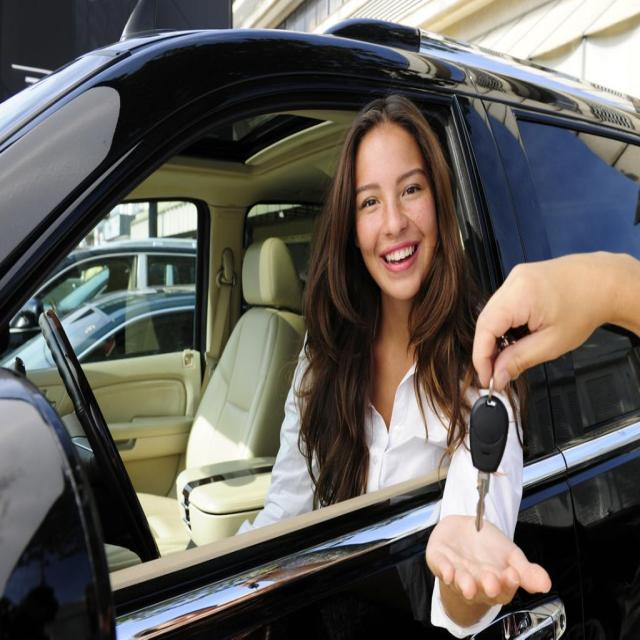Face: (351, 122, 438, 299)
